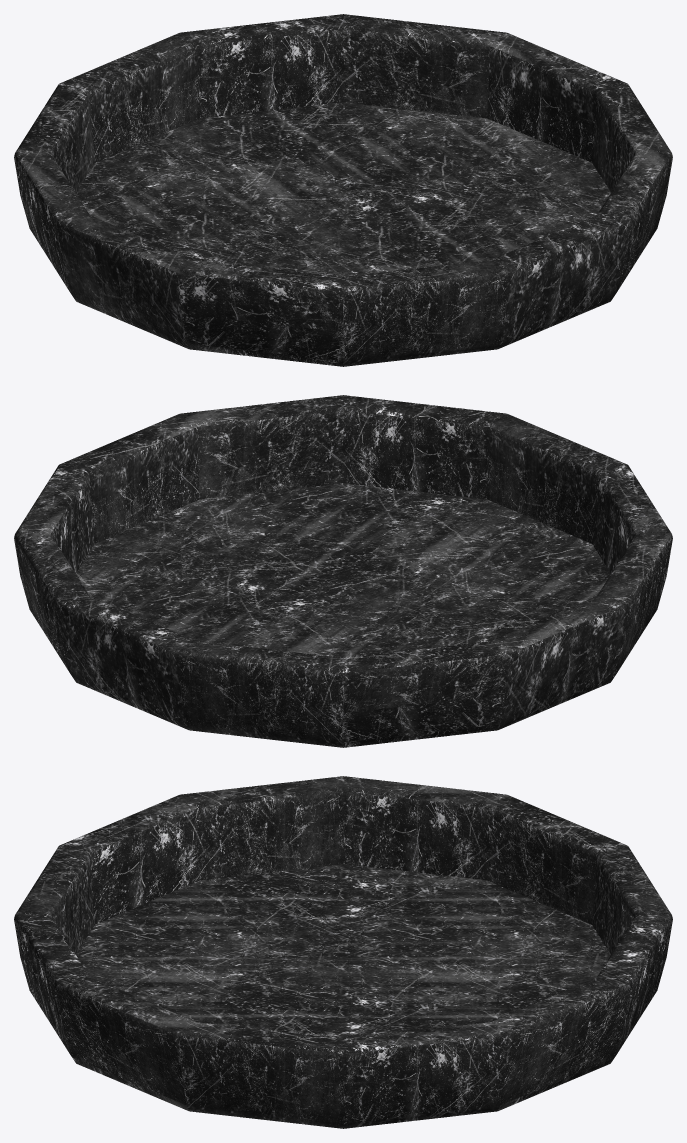
File: Will_Candle_Bottom.glb
3 renders of one model, top to bottom at view 1: azimuth 30°, elevation 25°; view 2: azimuth 150°, elevation 25°; view 3: azimuth 270°, elevation 25°, orthographic.
Parts seen in each view (by area): view 1: Cylinder.003; view 2: Cylinder.003; view 3: Cylinder.003.
Boxes of the visible parts, bbox=[...] form: Cylinder.003: bbox=[14, 14, 672, 366]; Cylinder.003: bbox=[14, 395, 672, 747]; Cylinder.003: bbox=[14, 776, 672, 1128].
Size of the model in its own units: 2.19 by 0.3241 by 2.19.
Materials: 1 (1 with a texture image).
